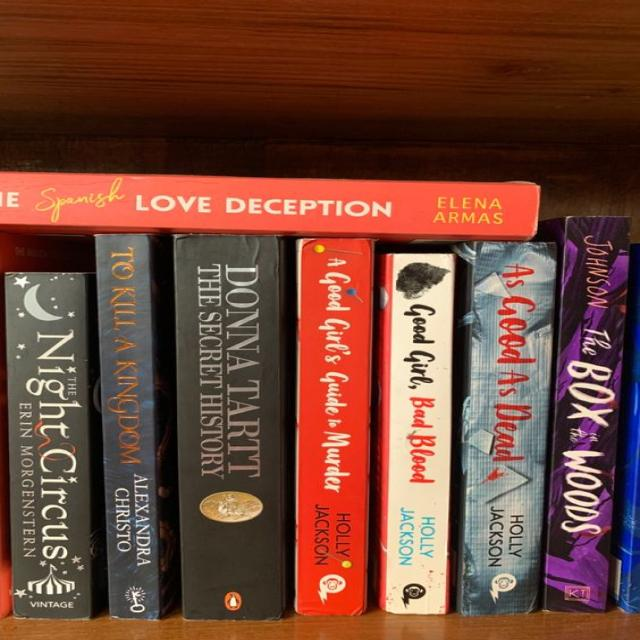book: (174, 236, 288, 620), (456, 242, 556, 615), (0, 172, 539, 241), (544, 218, 629, 611), (6, 273, 99, 619), (96, 234, 176, 620), (295, 239, 372, 614), (379, 254, 454, 614)
